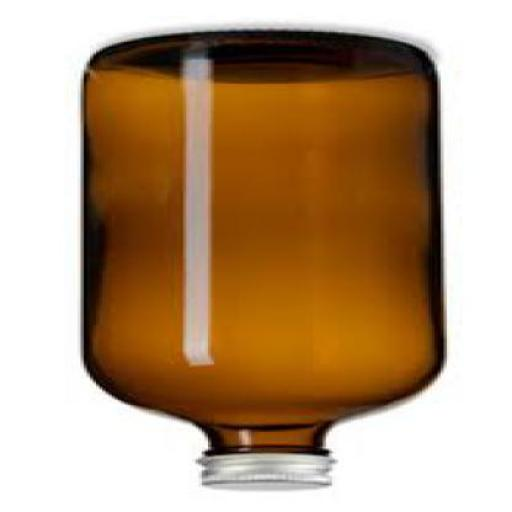glass: (87, 32, 447, 458)
metal: (202, 457, 338, 492)
